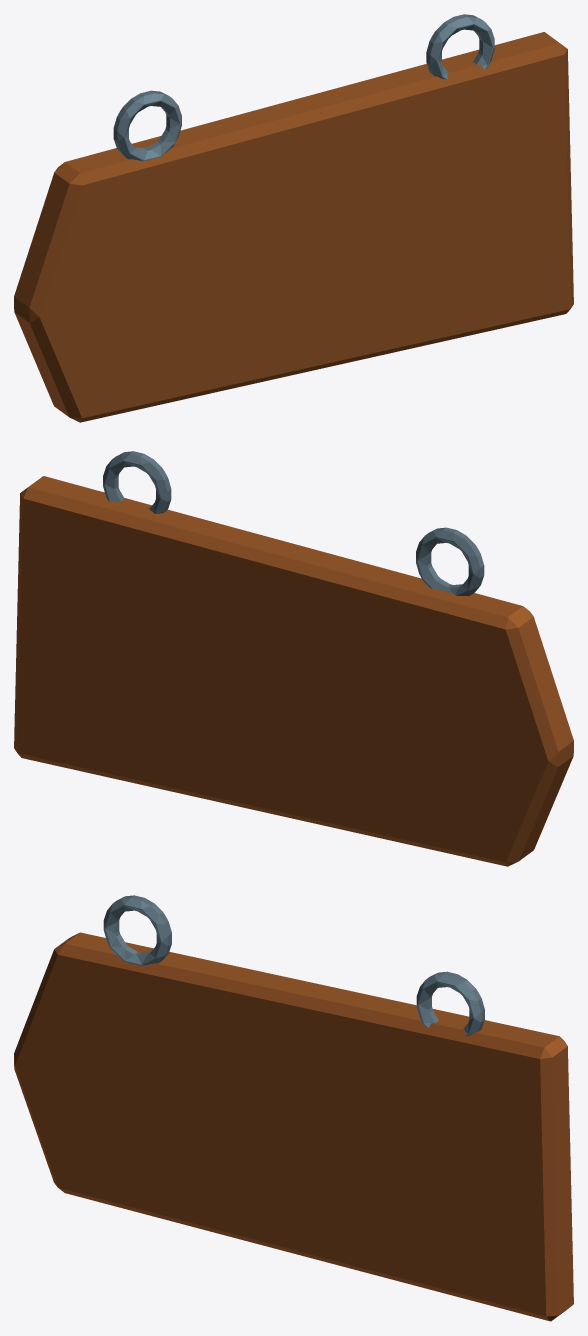
The model's file is D14_Hanging_Sign.fbx.
3 views of the same model, one above another, from view 1: azimuth 30°, elevation 25°; view 2: azimuth 150°, elevation 25°; view 3: azimuth 330°, elevation 25° (orthographic).
Parts seen in each view (by area): view 1: D14_Hanging_Sign; view 2: D14_Hanging_Sign; view 3: D14_Hanging_Sign.
Part boxes in pixels (x1=…): D14_Hanging_Sign: x1=14, y1=14, x2=573, y2=422; D14_Hanging_Sign: x1=14, y1=451, x2=573, y2=866; D14_Hanging_Sign: x1=14, y1=895, x2=573, y2=1321.
Size of the model in its own units: 0.8356 by 0.4692 by 0.065.
2 materials, 2 textured.
